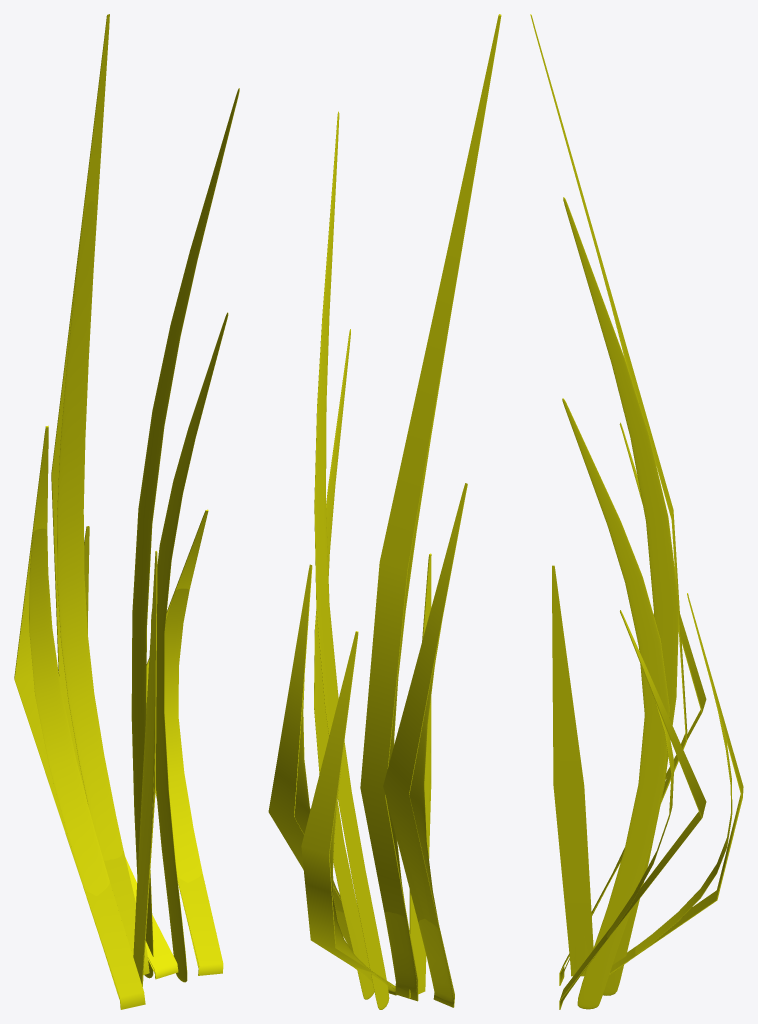
The model's file is seaweed-SP.fbx.
3 views of the same model, side by side, from view 1: azimuth 30°, elevation 25°; view 2: azimuth 150°, elevation 25°; view 3: azimuth 270°, elevation 25° (orthographic). The views are drawn at different scales.
Visible parts, largest first — view 1: seaweed3; view 2: seaweed3; view 3: seaweed3.
Part boxes in pixels (box(x1,y1,x2,y2)): seaweed3: box(14, 14, 239, 1009); seaweed3: box(268, 14, 501, 1009); seaweed3: box(530, 14, 743, 1009).
Size of the model in its own units: 3.79 by 22.53 by 4.59.
